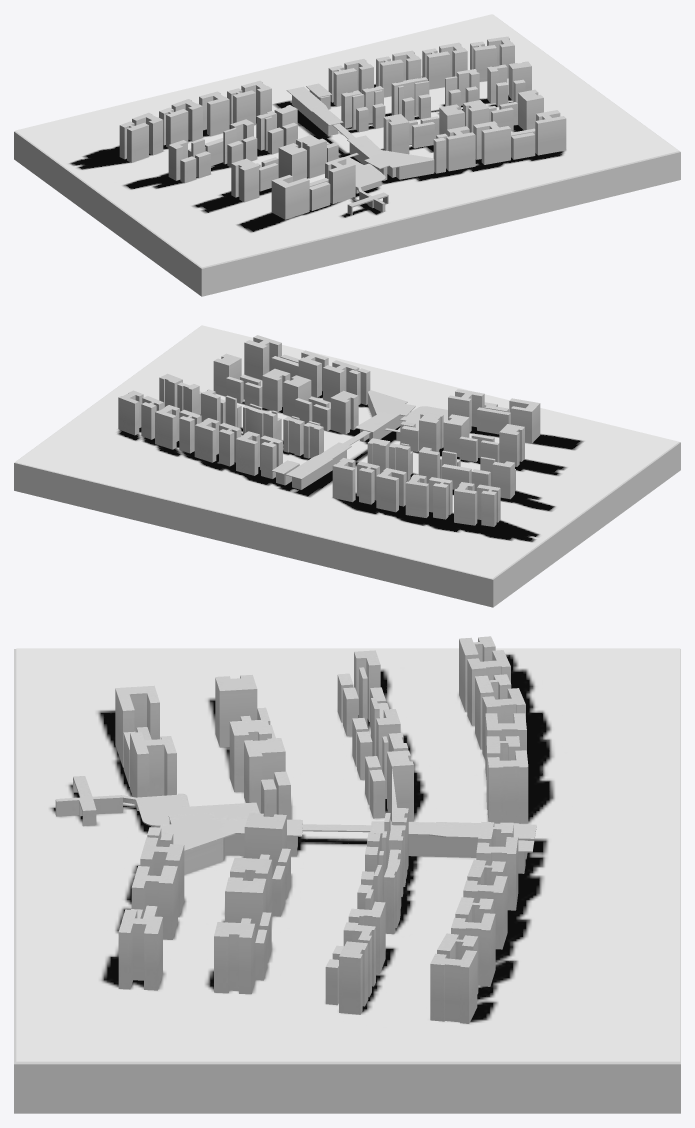
Rendered from environmental1.glb.
3 views of the same model, one above another, from view 1: azimuth 30°, elevation 25°; view 2: azimuth 150°, elevation 25°; view 3: azimuth 270°, elevation 25° (orthographic). The views are drawn at different scales.
Parts seen in each view (by area): view 1: Plane, Building, Cube; view 2: Plane, Building, Cube; view 3: Plane, Building, Cube.
Boxes of the visible parts, bbox=[...] form: Plane: bbox=[15, 14, 678, 267]; Building: bbox=[119, 36, 566, 219]; Cube: bbox=[14, 15, 680, 296]; Plane: bbox=[15, 325, 678, 578]; Building: bbox=[118, 335, 540, 526]; Cube: bbox=[14, 325, 680, 607]; Plane: bbox=[16, 648, 680, 1061]; Building: bbox=[55, 636, 536, 1023]; Cube: bbox=[14, 649, 680, 1113].
Size of the model in its own units: 16.18 by 1.95 by 10.98.
3 materials, 2 textured.
